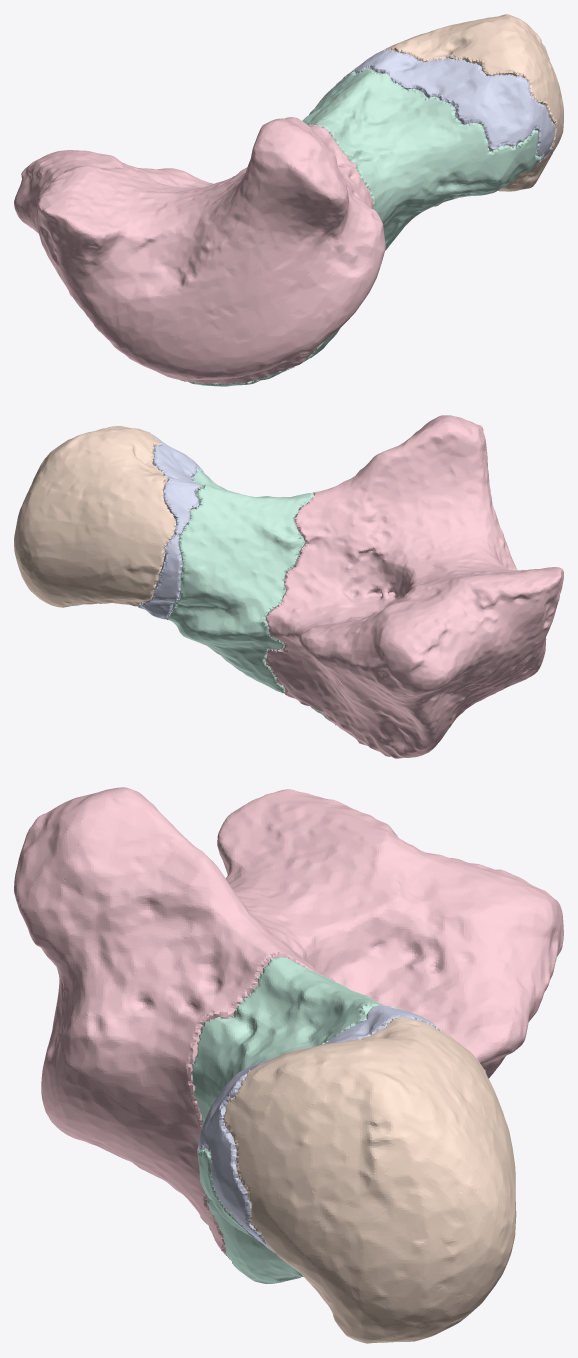
File: AMNH_216242_Galago-crassicaudatus_Left-Ast_Smooth_colored.glb
3 views of the same model, one above another, from view 1: azimuth 30°, elevation 25°; view 2: azimuth 150°, elevation 25°; view 3: azimuth 270°, elevation 25° (orthographic). The views are drawn at different scales.
Visible parts, largest first — view 1: world; view 2: world; view 3: world.
Part boxes in pixels (x1=…): world: x1=14, y1=14, x2=563, y2=386; world: x1=14, y1=415, x2=563, y2=758; world: x1=14, y1=787, x2=563, y2=1343.
Size of the model in its own units: 0.9994 by 0.5426 by 0.5827.
